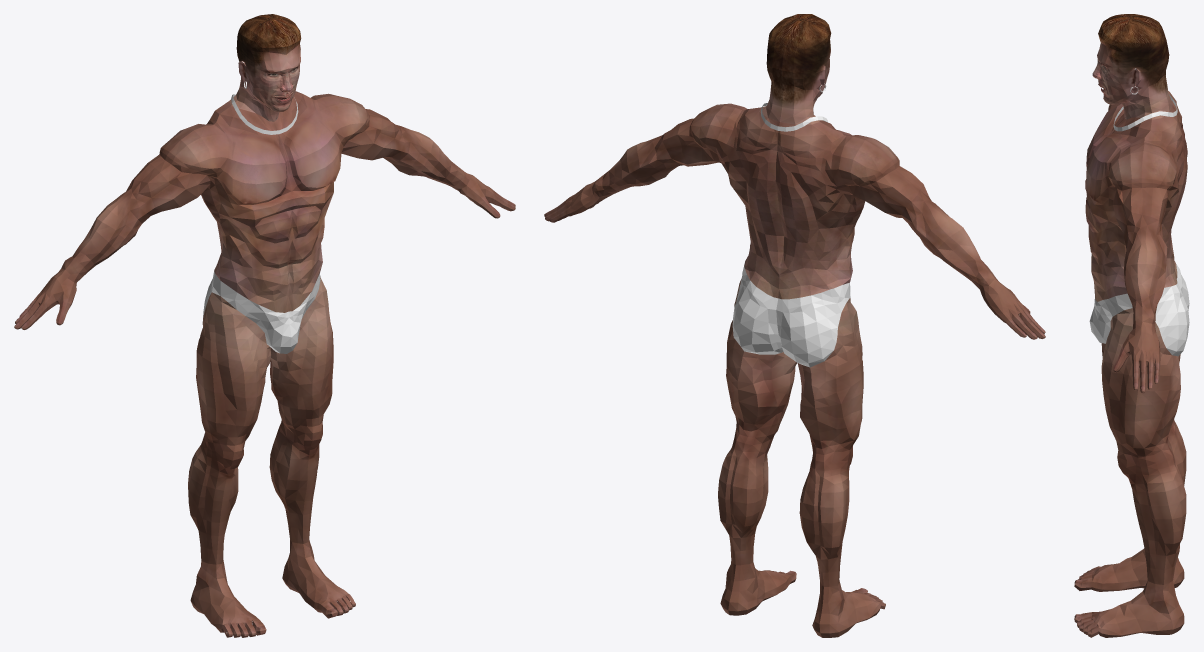
File: gachi.glb
3 views of the same model, side by side, from view 1: azimuth 30°, elevation 25°; view 2: azimuth 150°, elevation 25°; view 3: azimuth 270°, elevation 25° (orthographic).
Parts seen in each view (by area): view 1: node_id62; view 2: node_id62; view 3: node_id62.
Boxes of the visible parts, bbox=[...] form: node_id62: bbox=[14, 14, 515, 637]; node_id62: bbox=[544, 14, 1045, 637]; node_id62: bbox=[1074, 14, 1189, 637].
Size of the model in its own units: 0.4549 by 0.512 by 0.0906.
4 materials, 2 textured.
